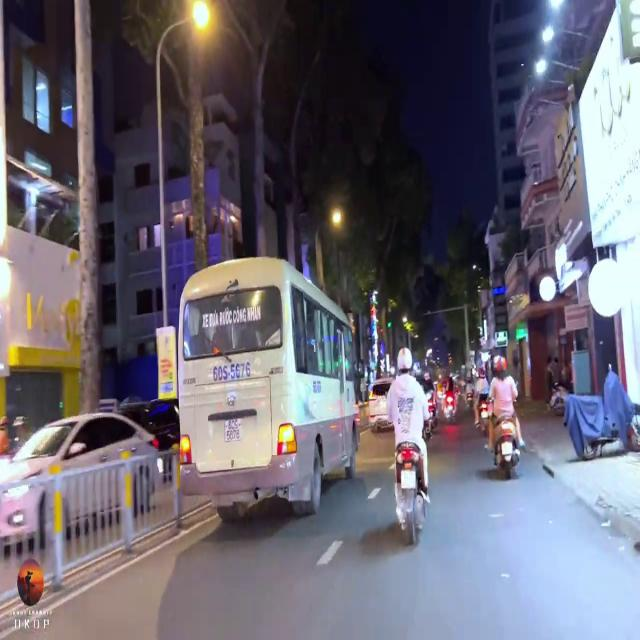bien_trang: (223, 413, 240, 436)
